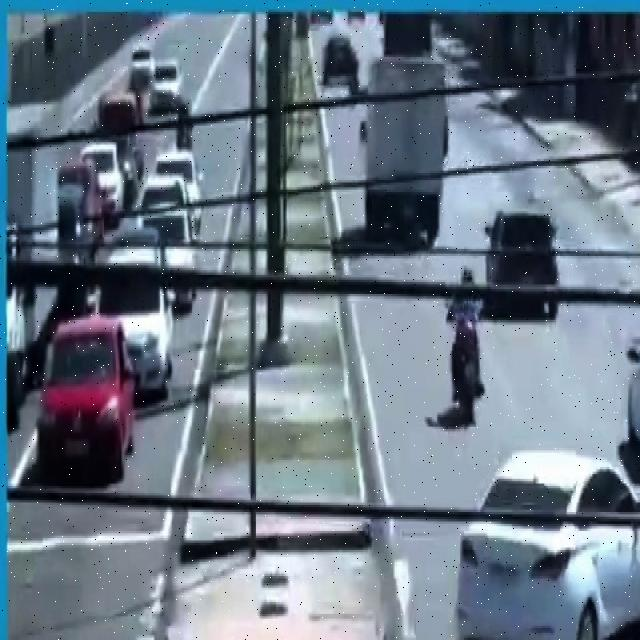biker: (445, 264, 491, 436)
car: (458, 441, 640, 640), (35, 309, 140, 489), (96, 240, 183, 396), (483, 200, 564, 320), (628, 318, 640, 496)
truck: (358, 57, 449, 259)
